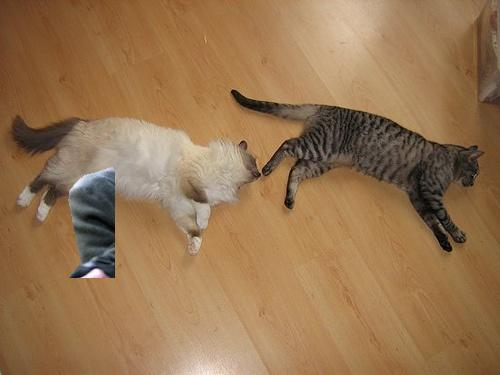tampered: (69, 168, 115, 278)
